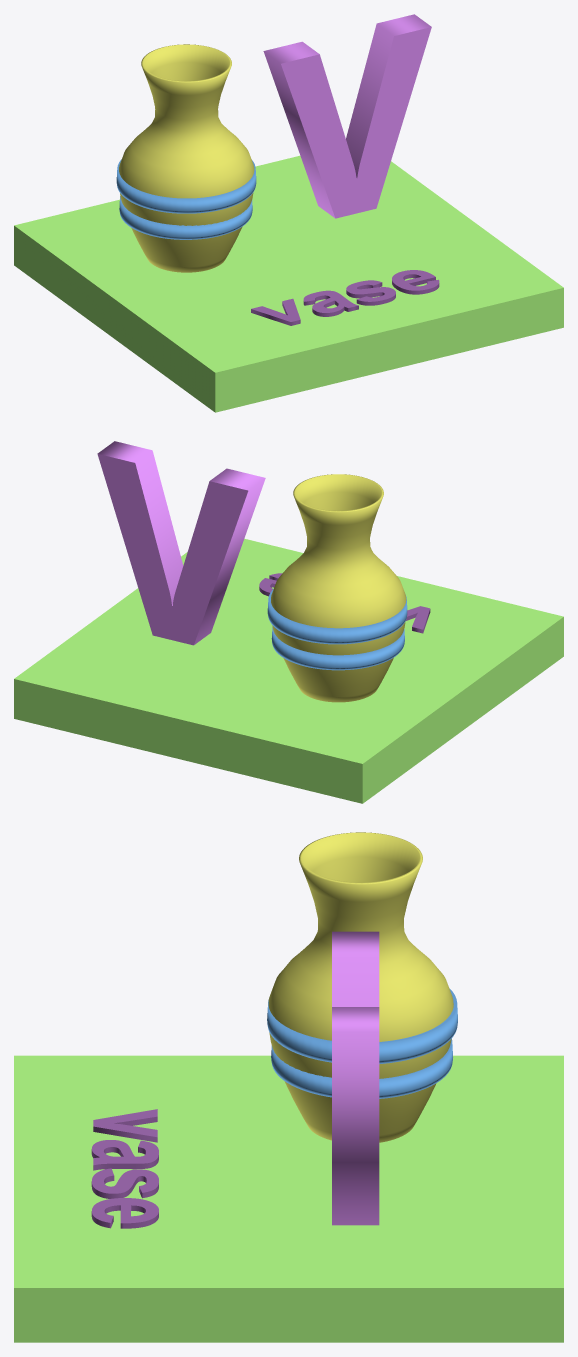
Rendered from vletter.glb.
3 views of the same model, one above another, from view 1: azimuth 30°, elevation 25°; view 2: azimuth 150°, elevation 25°; view 3: azimuth 270°, elevation 25° (orthographic). The views are drawn at different scales.
Visible parts, largest first — view 1: Cube.022, Plane, Text.003, Text.002, Cube.001, Cube.002; view 2: Cube.022, Plane, Text.003, Cube.001, Cube.002, Text.002; view 3: Cube.022, Plane, Text.003, Text.002, Cube.001, Cube.002.
Boxes of the visible parts, box(x1,y1,x2,y2) form: Cube.022: box(14, 155, 563, 412); Plane: box(119, 44, 254, 272); Text.003: box(263, 14, 431, 218); Text.002: box(251, 270, 439, 325); Cube.001: box(116, 159, 256, 213); Cube.002: box(119, 196, 252, 239); Cube.022: box(14, 538, 563, 803); Plane: box(271, 474, 406, 702); Text.003: box(97, 441, 265, 645); Cube.001: box(267, 589, 407, 644); Cube.002: box(271, 627, 404, 670); Text.002: box(259, 573, 430, 633); Cube.022: box(14, 1055, 563, 1342); Plane: box(268, 832, 453, 1142); Text.003: box(332, 931, 379, 1225); Text.002: box(91, 1109, 158, 1228); Cube.001: box(267, 988, 457, 1063); Cube.002: box(271, 1038, 452, 1098).
Bounding box in the file's own units: 0.3237 × 0.2066 × 0.3237.
